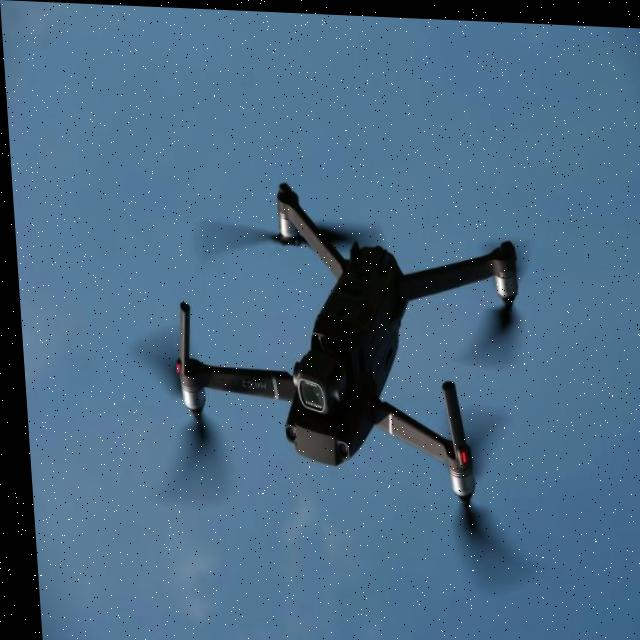drone: (114, 165, 572, 582)
